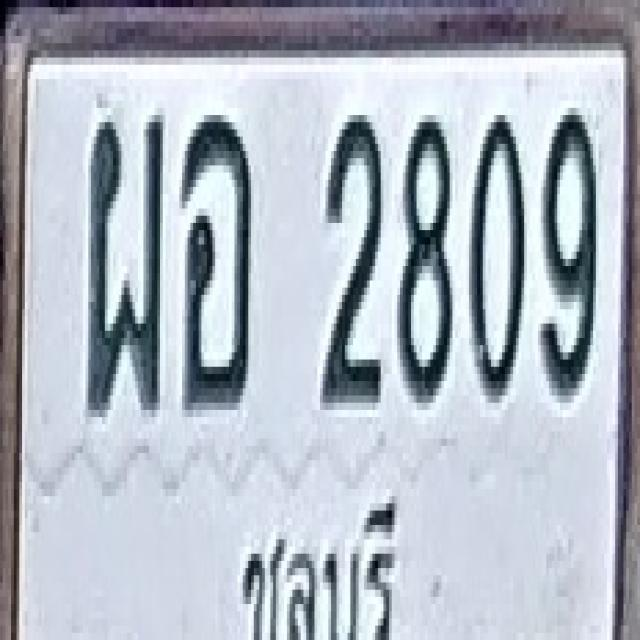0: (469, 108, 524, 403)
2: (321, 108, 382, 403)
8: (398, 112, 452, 399)
9: (541, 108, 596, 395)
A28: (87, 112, 164, 414)
A43: (179, 115, 251, 410)
CBI: (234, 493, 408, 640)
